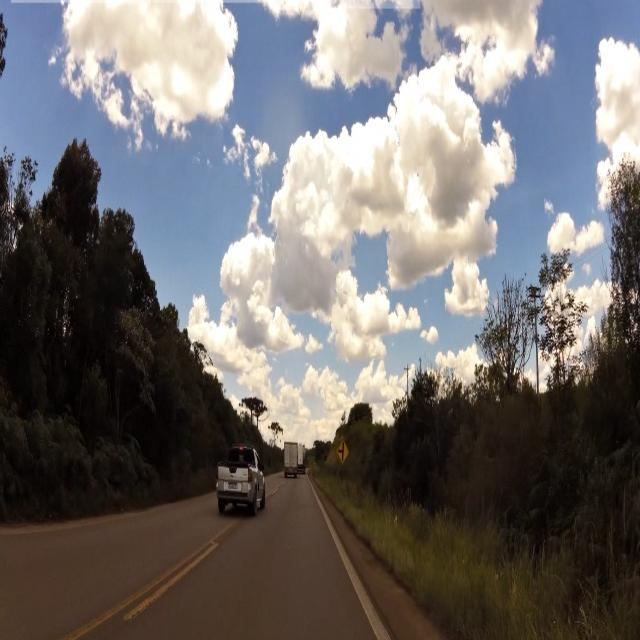A-7a: (337, 440, 352, 462)
